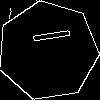I: (23, 25, 71, 47)
